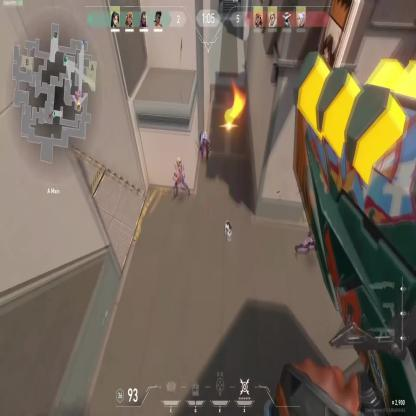enemy: (290, 221, 334, 257), (171, 156, 190, 199), (200, 128, 210, 161)
enemy_head: (177, 157, 181, 167), (204, 130, 207, 138)
